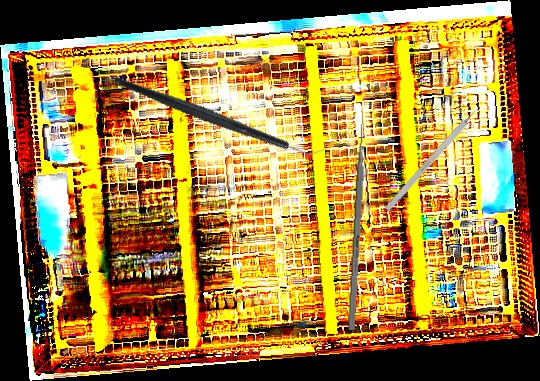Chopper: (111, 12, 331, 220)
Hook Surgical: (384, 99, 487, 212)
Pusher: (347, 107, 368, 331)
